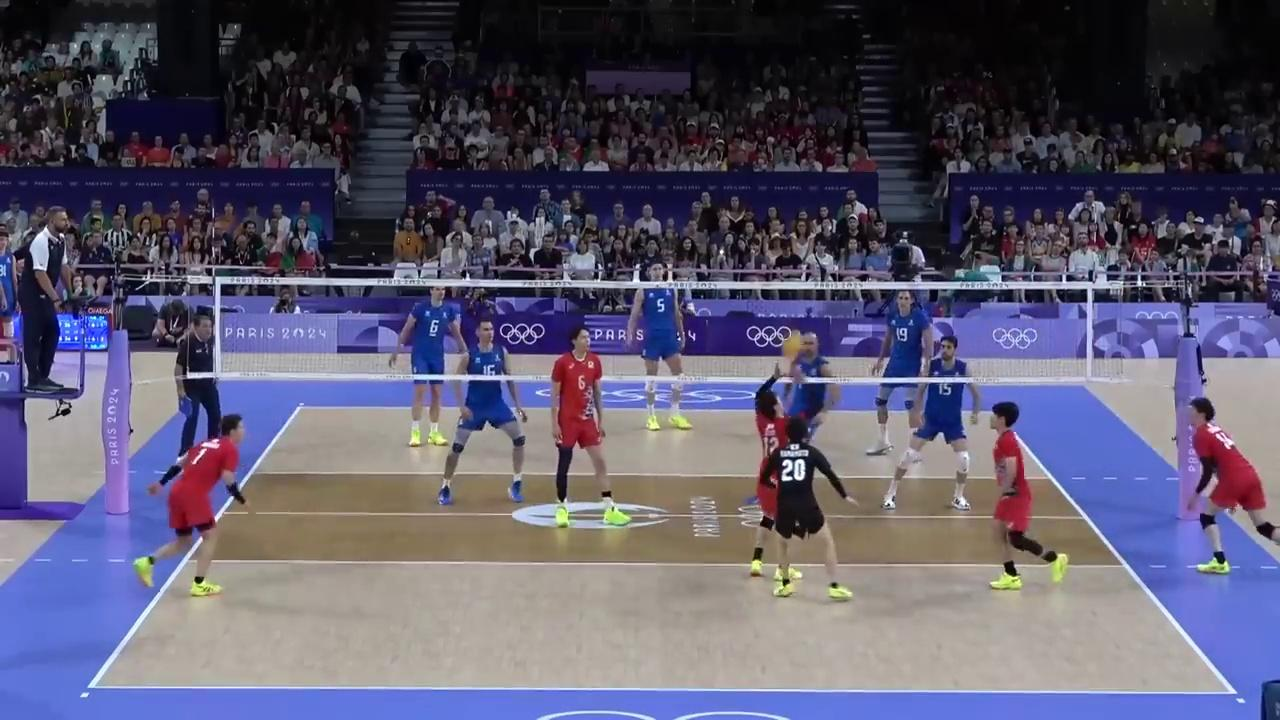ball: (782, 330, 800, 360)
